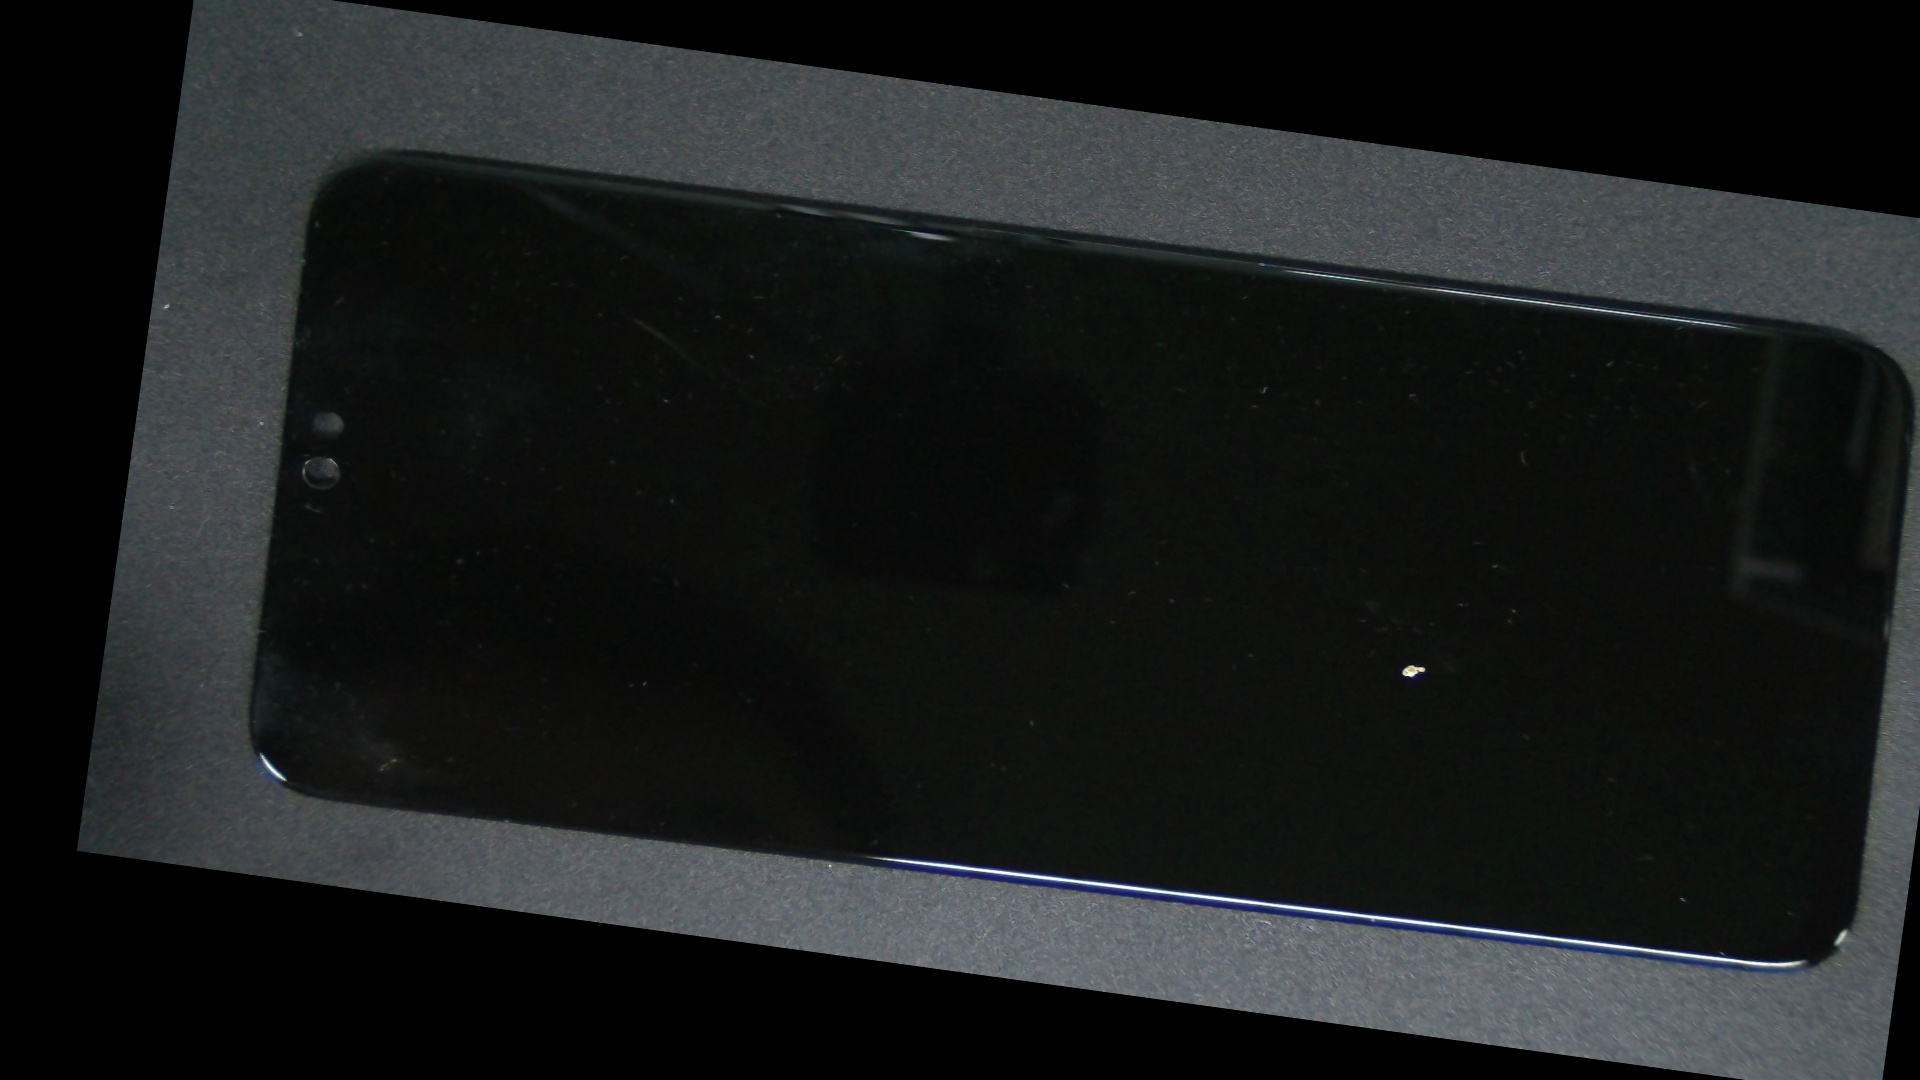oil: (736, 323, 1920, 989)
